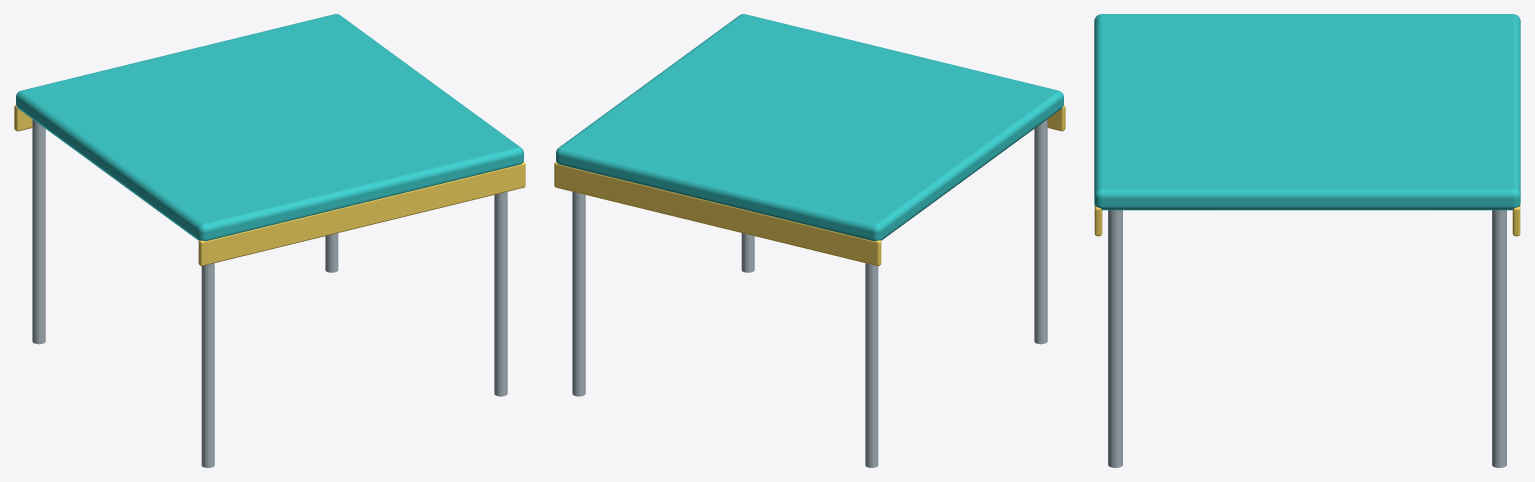
File: party-obstacle-course-party-obstacle-course-shade-cano-748ae178__28943.glb
The picture shows the model from 3 angles, left to right: view 1: azimuth 30°, elevation 25°; view 2: azimuth 150°, elevation 25°; view 3: azimuth 270°, elevation 25°; orthographic projection. The views are drawn at different scales.
Parts seen in each view (by area): view 1: party-obstacle-course-shade-canopy; view 2: party-obstacle-course-shade-canopy; view 3: party-obstacle-course-shade-canopy.
Boxes of the visible parts, <box> form: party-obstacle-course-shade-canopy: <box>14,14,525,467</box>; party-obstacle-course-shade-canopy: <box>554,14,1065,467</box>; party-obstacle-course-shade-canopy: <box>1094,14,1520,467</box>.
Size of the model in its own units: 4 by 2.92 by 4.
